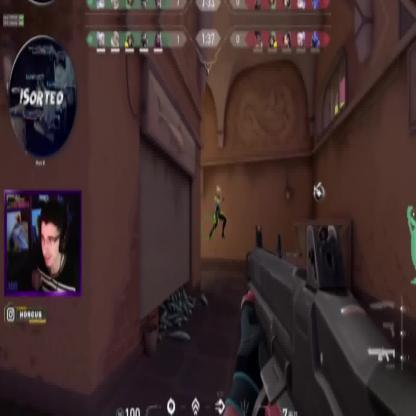enemy: (209, 184, 227, 240)
enemy_head: (216, 185, 222, 197)
